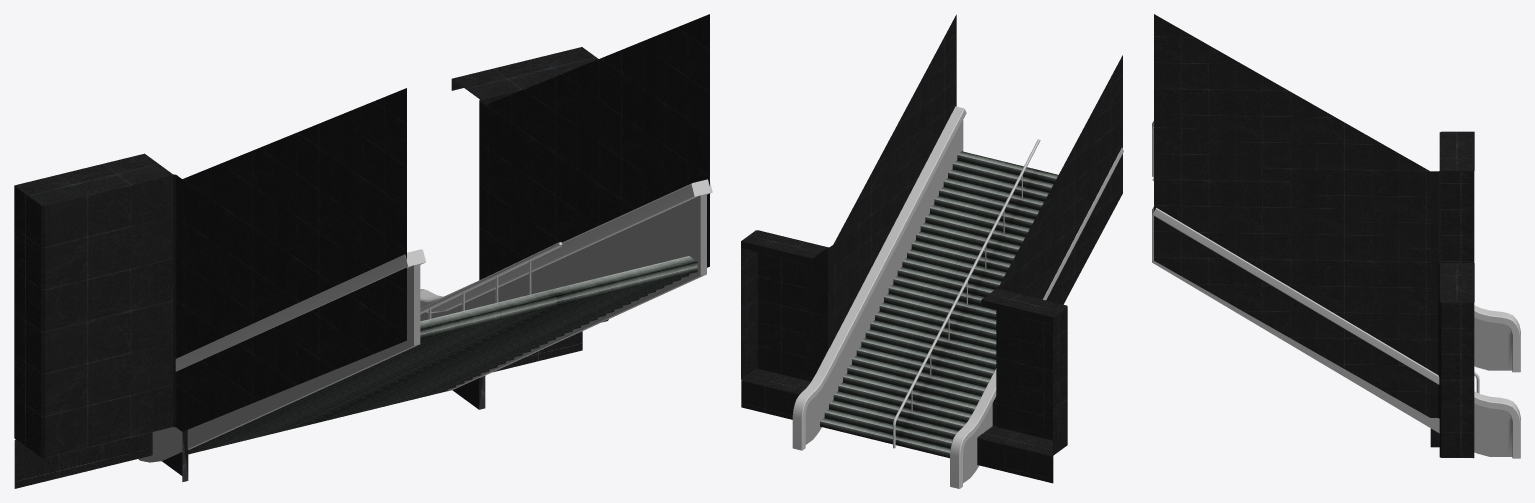
The model's file is m_subway_stairs.fbx.
3 renders of one model, left to right at view 1: azimuth 30°, elevation 25°; view 2: azimuth 150°, elevation 25°; view 3: azimuth 270°, elevation 25°, orthographic. The views are drawn at different scales.
Visible parts, largest first — view 1: pCube44, pCube45, pCube46, polySurface3, polySurface1, polySurface4, polySurface2, pCylinder11; view 2: pCube46, pCube45, pCube44, polySurface4, polySurface3, polySurface2, pCylinder11, polySurface1; view 3: pCube45, pCube44, polySurface3, polySurface4, polySurface1, polySurface2.
Boxes of the visible parts, box(x1,y1,x2,y2) form: pCube44: box(14, 88, 406, 488); pCube45: box(451, 14, 709, 409); pCube46: box(188, 256, 697, 454); polySurface3: box(420, 194, 706, 390); polySurface1: box(138, 264, 420, 462); polySurface4: box(420, 179, 712, 313); polySurface2: box(175, 249, 425, 371); pCylinder11: box(420, 242, 563, 319); pCube46: box(820, 151, 1058, 458); pCube45: box(741, 14, 956, 419); pCube44: box(977, 55, 1122, 483); polySurface4: box(792, 106, 966, 450); polySurface3: box(805, 120, 963, 444); polySurface2: box(950, 147, 1123, 488); pCylinder11: box(893, 139, 1040, 448); polySurface1: box(963, 297, 1067, 483); pCube45: box(1154, 105, 1474, 458); pCube44: box(1154, 14, 1474, 262); polySurface3: box(1152, 215, 1512, 456); polySurface4: box(1152, 207, 1520, 458); polySurface1: box(1152, 129, 1512, 370); polySurface2: box(1152, 121, 1520, 372).
Bounding box in the file's own units: 0.118 × 0.1138 × 0.1077.
